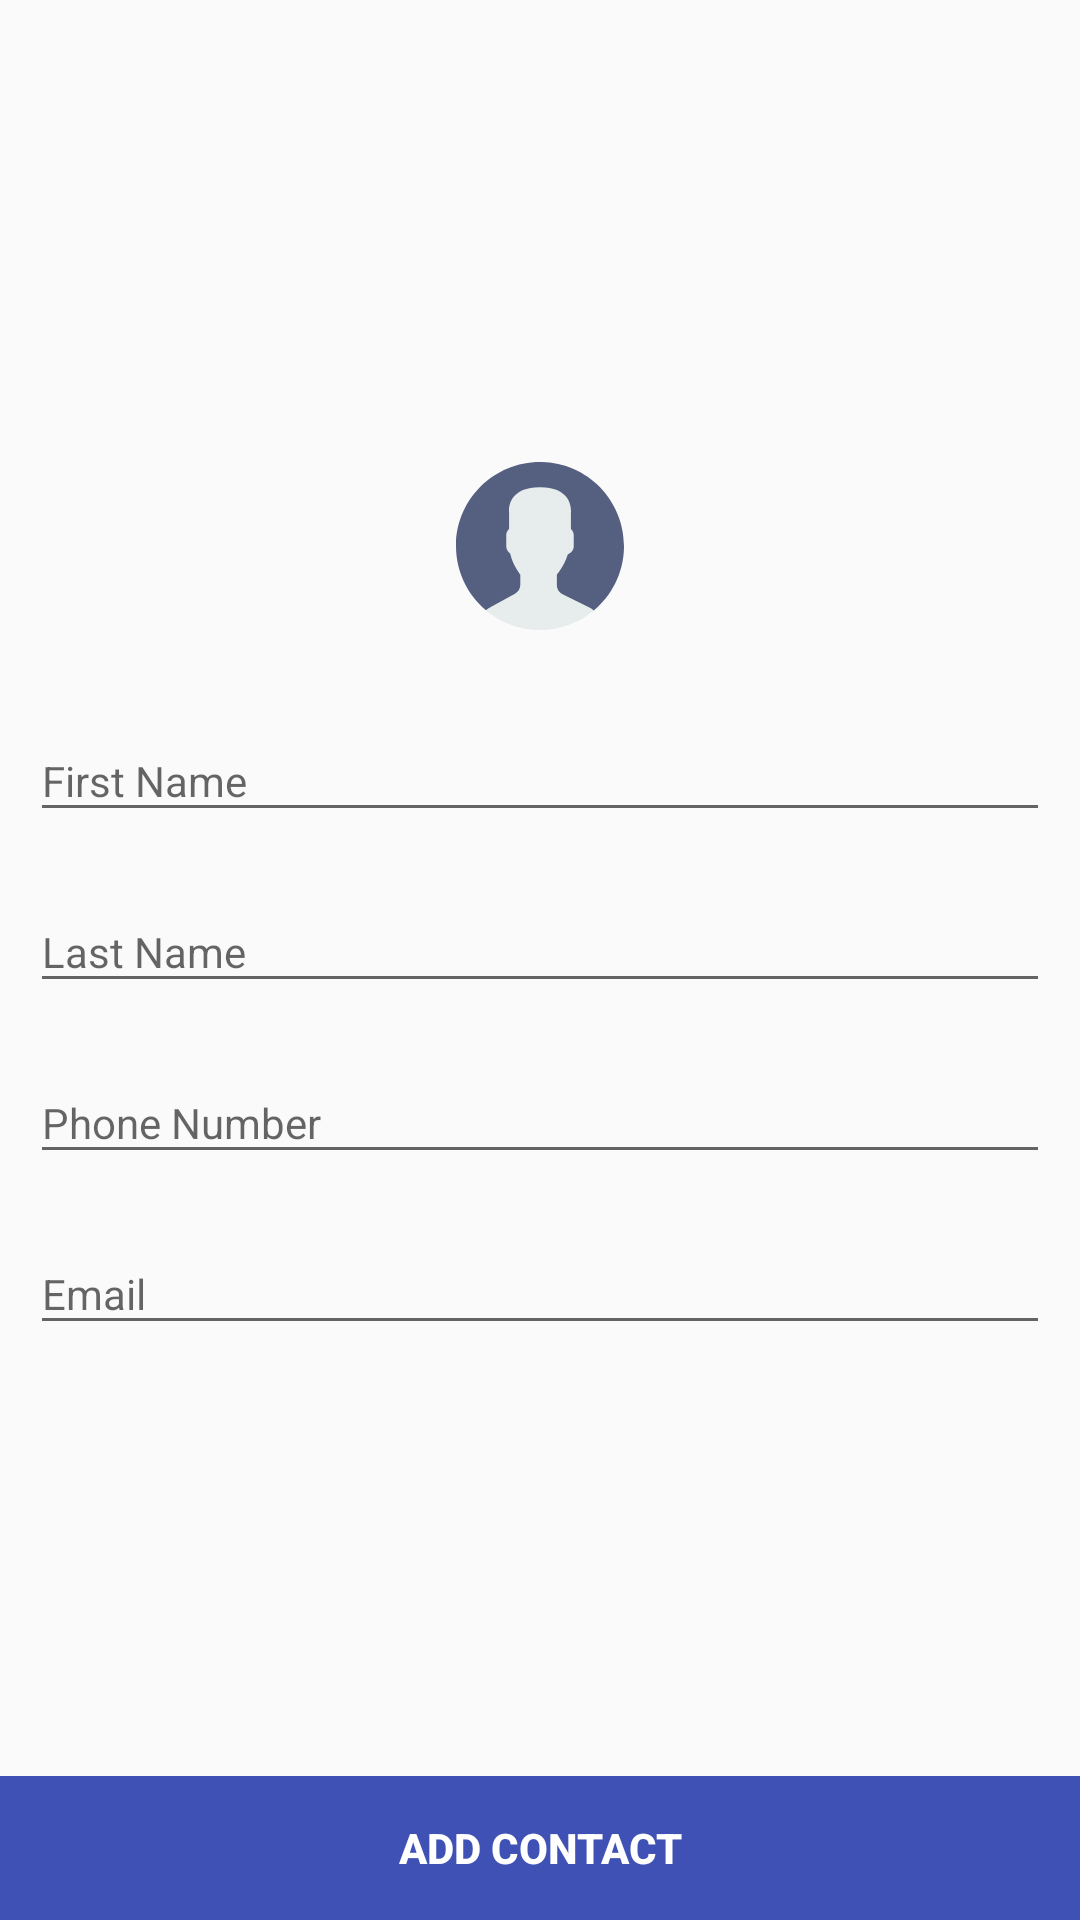

Where to tap for icons on this 1080w x 1920h app screen, as (x=x, y=y):
user: (x=540, y=536)
